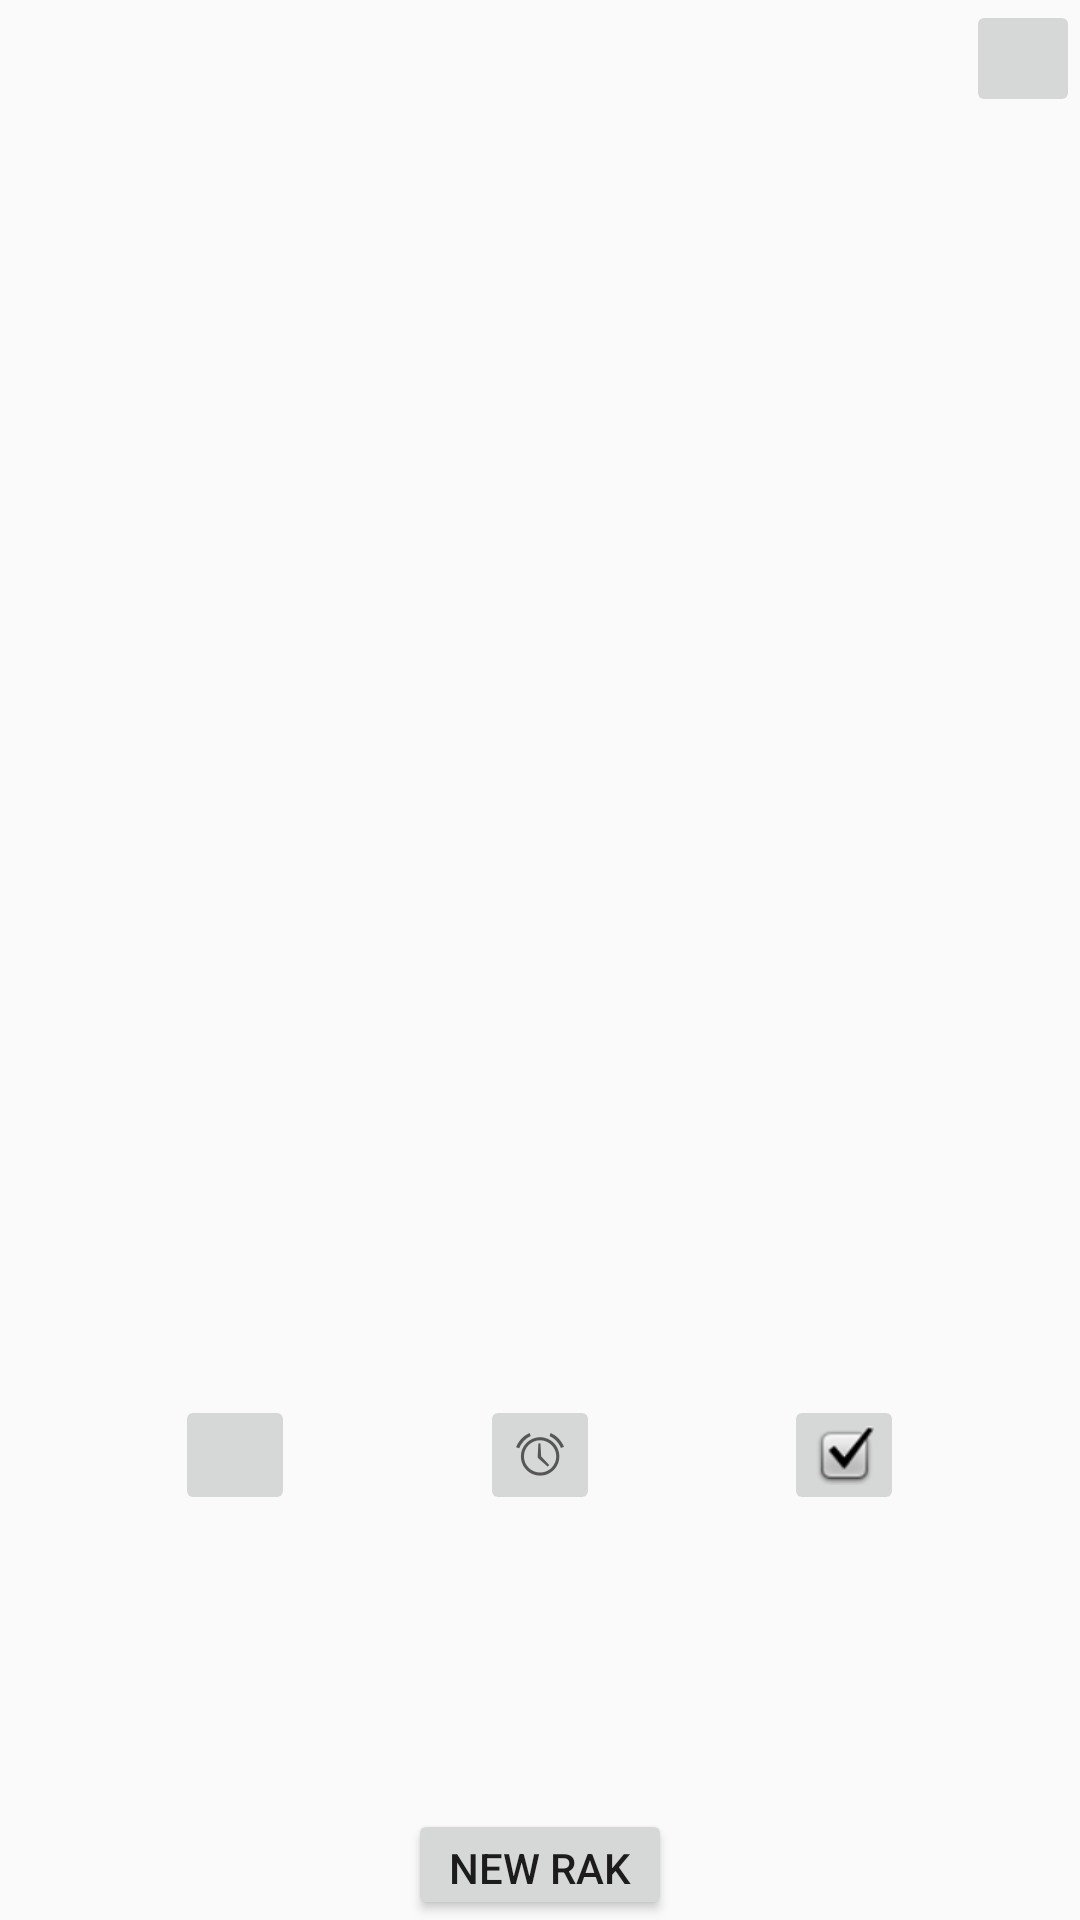

Point at icon controls on the screen. Image size 1080 × 1920, points as (x,y).
lock idle alarm: (540,1455)
